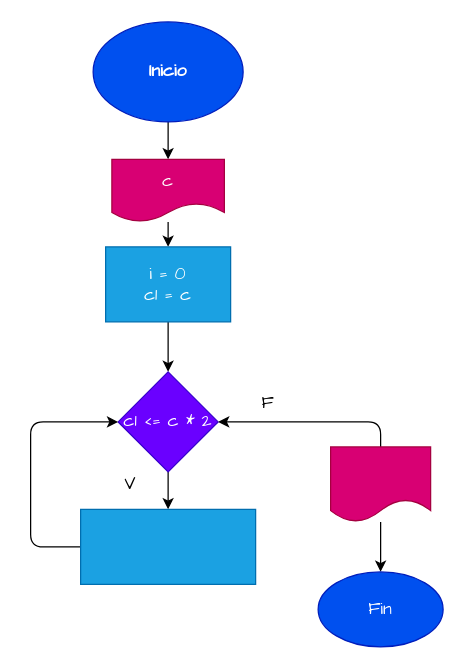
Image size: 465x669. Some labels were removed from this diagram. Here are the shapes that lost their labels. From the top down, the centre of each, then its label:
(x=380, y=484): c,c1,i
(x=167, y=546): c1 = c1 + c * 0.05 i = i +1
